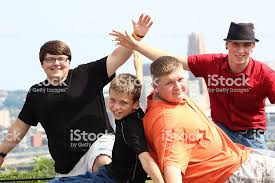person: (194, 15, 272, 133), (21, 36, 101, 134), (145, 54, 213, 167), (97, 70, 155, 175)
